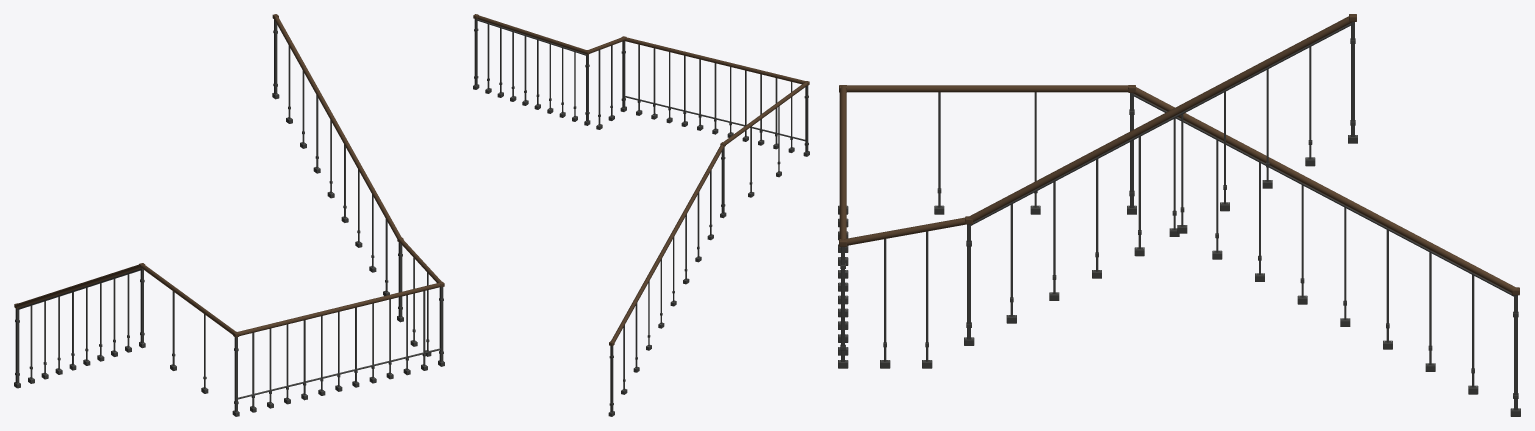
The model's file is stair_ironwork_service.glb.
The picture shows the model from 3 angles, left to right: view 1: azimuth 30°, elevation 25°; view 2: azimuth 150°, elevation 25°; view 3: azimuth 270°, elevation 25°; orthographic projection. The views are drawn at different scales.
Visible parts, largest first — view 1: Ironwork_cast_iron, Ironwork_wood_dark; view 2: Ironwork_cast_iron, Ironwork_wood_dark; view 3: Ironwork_cast_iron, Ironwork_wood_dark.
Part boxes in pixels (x1,y1,x2,y2): Ironwork_cast_iron: (14, 19, 444, 416); Ironwork_wood_dark: (14, 14, 444, 337); Ironwork_cast_iron: (473, 19, 809, 416); Ironwork_wood_dark: (473, 14, 809, 345); Ironwork_cast_iron: (838, 22, 1520, 416); Ironwork_wood_dark: (839, 14, 1519, 295).
Size of the model in its own units: 2.4 by 3.94 by 4.4.
